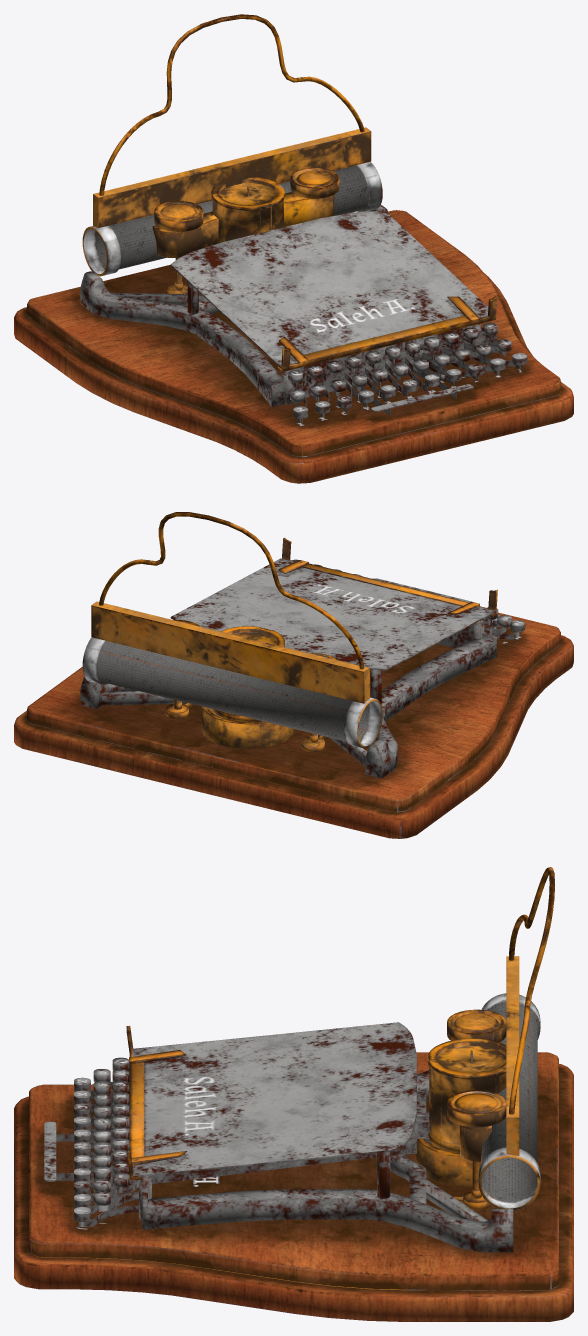
Rendered from Typewriter.glb.
The picture shows the model from 3 angles, top to bottom: view 1: azimuth 30°, elevation 25°; view 2: azimuth 150°, elevation 25°; view 3: azimuth 270°, elevation 25°; orthographic projection. The views are drawn at different scales.
Parts seen in each view (by area): view 1: Base; view 2: Base; view 3: Base.
Part boxes in pixels (box(x1,y1,x2,y2)): Base: box(14, 14, 573, 483); Base: box(14, 512, 573, 838); Base: box(14, 867, 573, 1321).
Size of the model in its own units: 2 by 1.29 by 2.
Materials: 1 (1 with a texture image).
